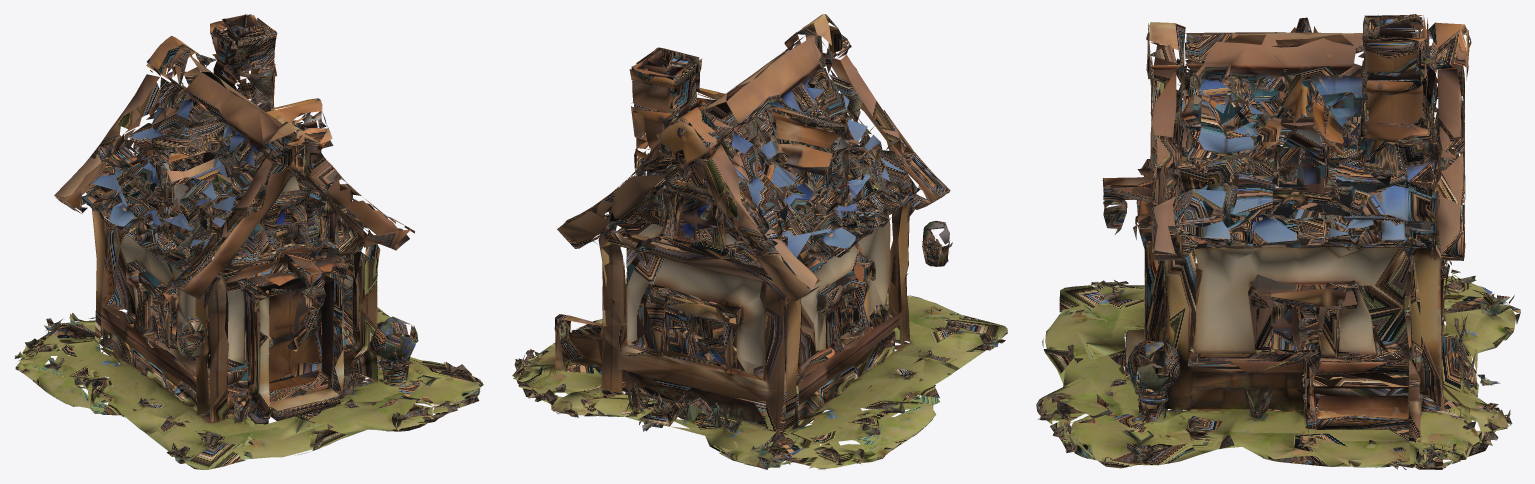
The picture shows the model from 3 angles, left to right: view 1: azimuth 30°, elevation 25°; view 2: azimuth 150°, elevation 25°; view 3: azimuth 270°, elevation 25°; orthographic projection. The views are drawn at different scales.
Size of the model in its own units: 1.87 by 1.61 by 1.87.
Materials: 1 (1 with a texture image).
